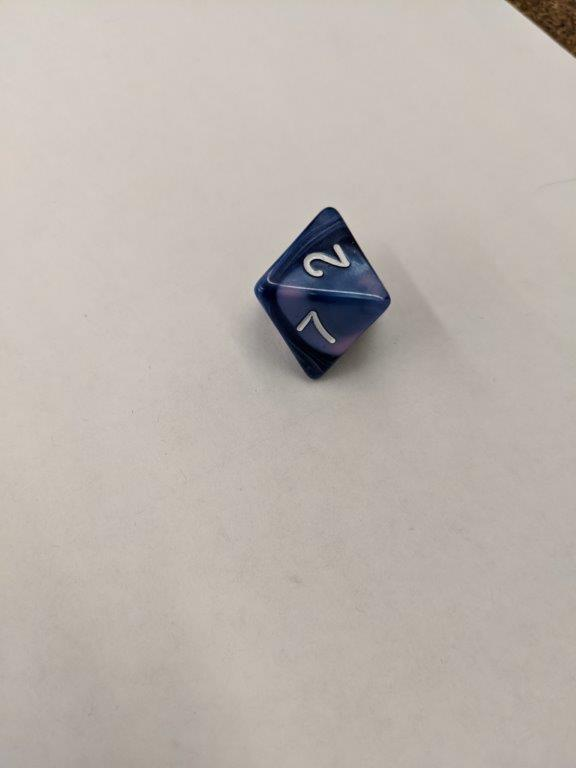d8-2: (255, 206, 393, 378)
